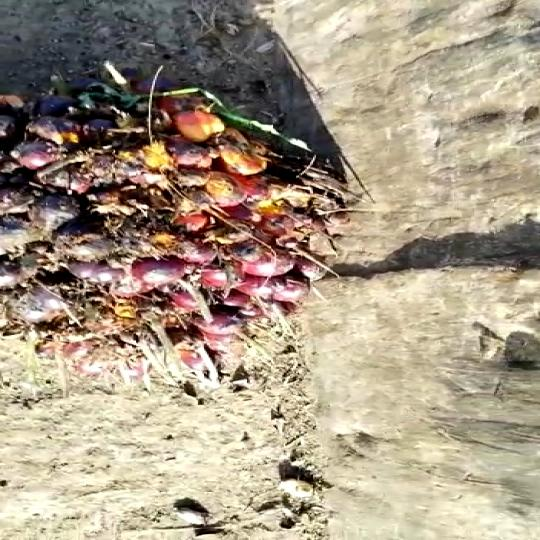masak: (0, 61, 373, 388)
